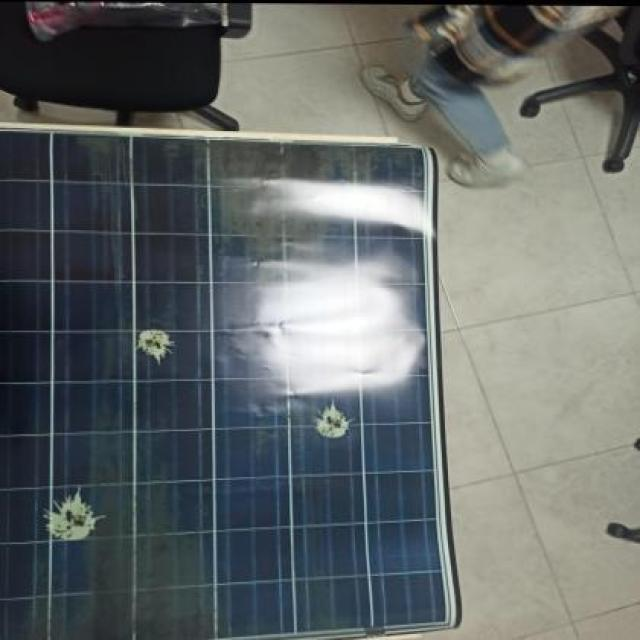soiled: (1, 122, 462, 640)
